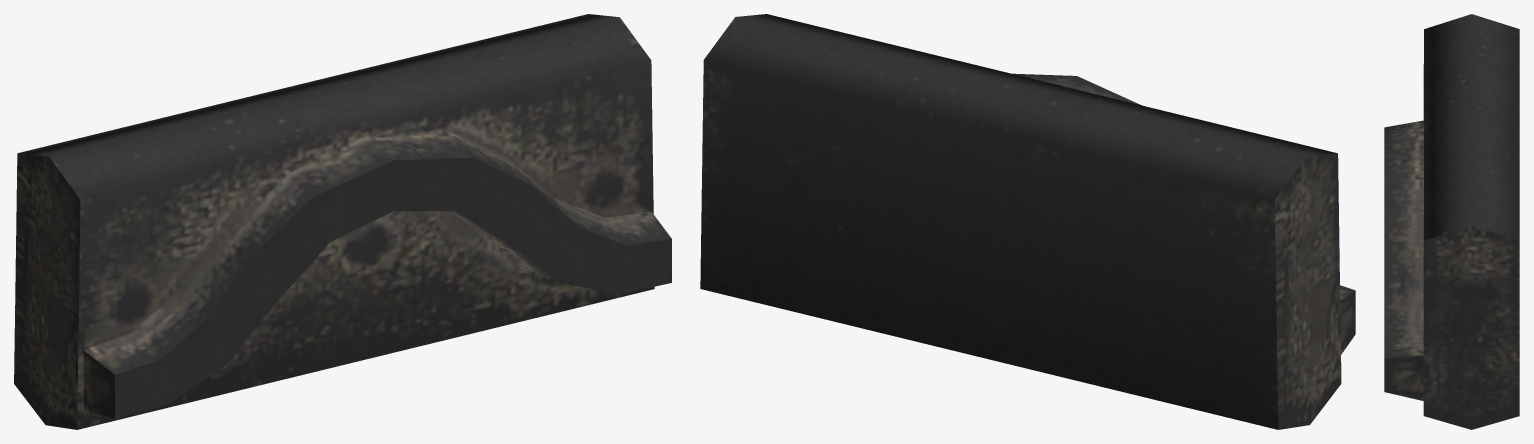
3 renders of one model, left to right at view 1: azimuth 30°, elevation 25°; view 2: azimuth 150°, elevation 25°; view 3: azimuth 270°, elevation 25°, orthographic. The views are drawn at different scales.
Visible parts, largest first — view 1: set_0_group_0; view 2: set_0_group_0; view 3: set_0_group_0.
Boxes of the visible parts, x1,y1,x2,y2 form: set_0_group_0: (14,14,671,429); set_0_group_0: (700,14,1355,429); set_0_group_0: (1384,14,1519,429).
Bounding box in the file's own units: 0.3401 × 0.1506 × 0.0909.
1 material, 1 textured.
